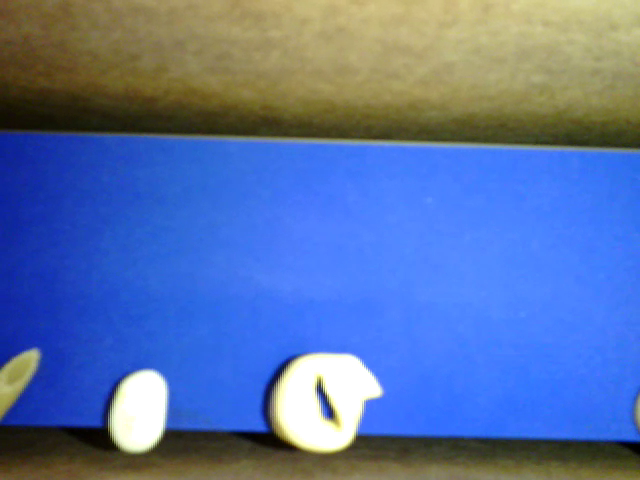penne: (1, 346, 42, 420)
tortellini: (269, 352, 383, 454)
